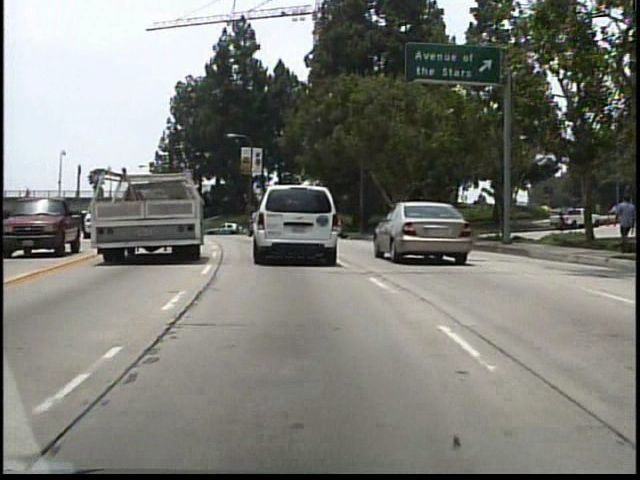person: (609, 191, 631, 257), (22, 184, 32, 203)
